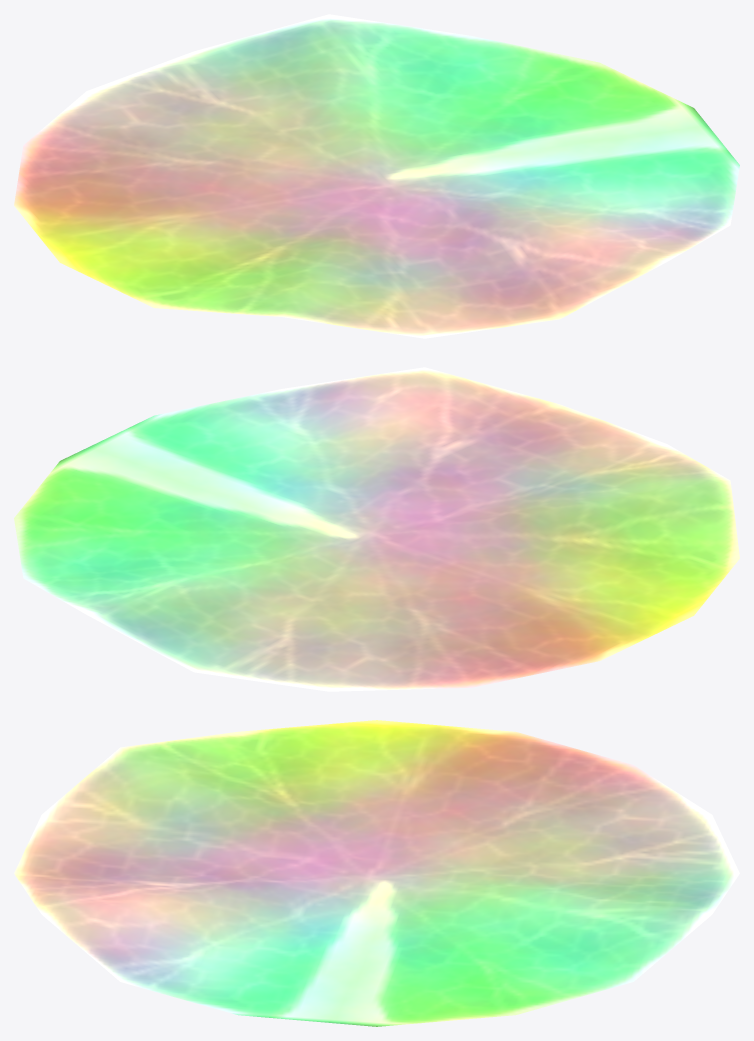
The model's file is lilly_pad_SM.fbx.
The picture shows the model from 3 angles, top to bottom: view 1: azimuth 30°, elevation 25°; view 2: azimuth 150°, elevation 25°; view 3: azimuth 270°, elevation 25°; orthographic projection.
Parts seen in each view (by area): view 1: lilly_pad_SM_LOD0; view 2: lilly_pad_SM_LOD0; view 3: lilly_pad_SM_LOD0.
Part boxes in pixels (x1=…): lilly_pad_SM_LOD0: x1=14, y1=14, x2=739, y2=338; lilly_pad_SM_LOD0: x1=14, y1=367, x2=739, y2=691; lilly_pad_SM_LOD0: x1=14, y1=720, x2=739, y2=1026.
Size of the model in its own units: 72.82 by 72.82 by 1.95.
Materials: 1 (1 with a texture image).
